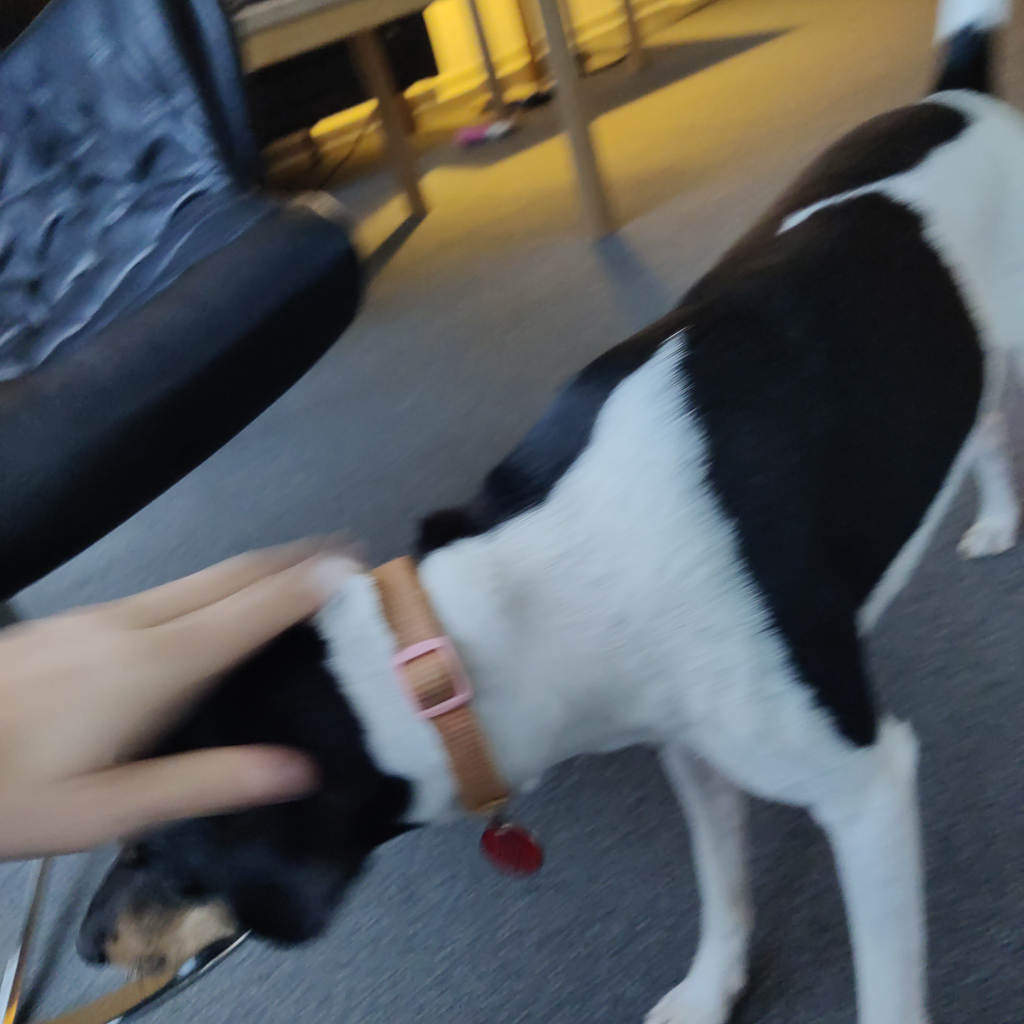Dog: (63, 0, 1024, 1024)
Humanoid: (0, 500, 400, 907)
